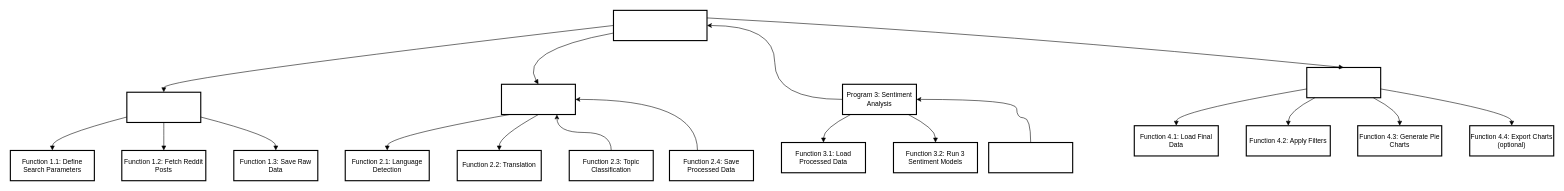
The diagram is 1564 pixels wide and 191 high, and some of its shapes have lost their labels. The shapes that lost their labels are listed below. From the top down, each one's box as (x1, y1, x2, y2) in pixels, then its label:
(613, 10, 707, 41): Reddit sentiment Analysis
(501, 83, 576, 115): Program 2: Reddit Data Processing
(1306, 67, 1381, 98): Program 4: Visualization & Filtering GUI
(126, 91, 201, 123): Program 1: Reddit Data Collection
(988, 142, 1073, 173): Function 3.3: Save Sentiment Output
